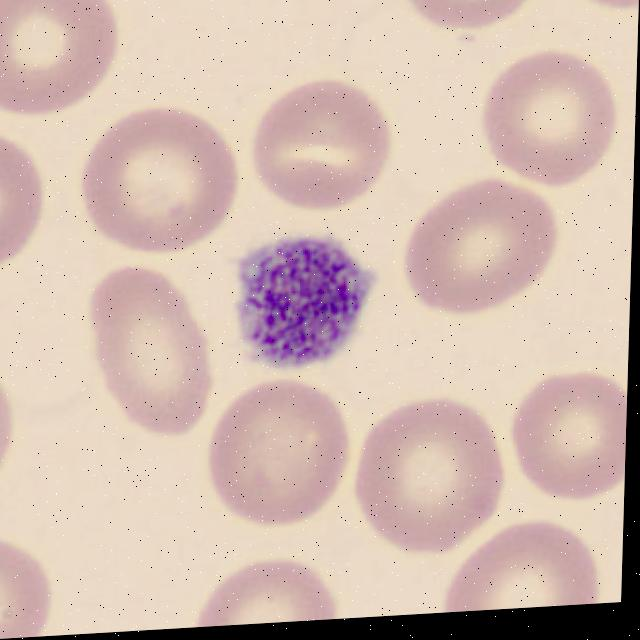platelets: (224, 226, 378, 384)
rbc: (193, 359, 361, 531), (345, 389, 511, 562), (73, 93, 248, 255), (75, 254, 220, 443), (390, 174, 563, 320), (469, 40, 625, 190), (241, 74, 400, 216), (430, 507, 611, 613), (506, 354, 628, 504), (0, 0, 135, 128), (187, 536, 347, 628), (0, 515, 73, 640), (0, 123, 53, 271), (380, 0, 551, 42), (0, 353, 19, 490), (555, 0, 640, 21)
